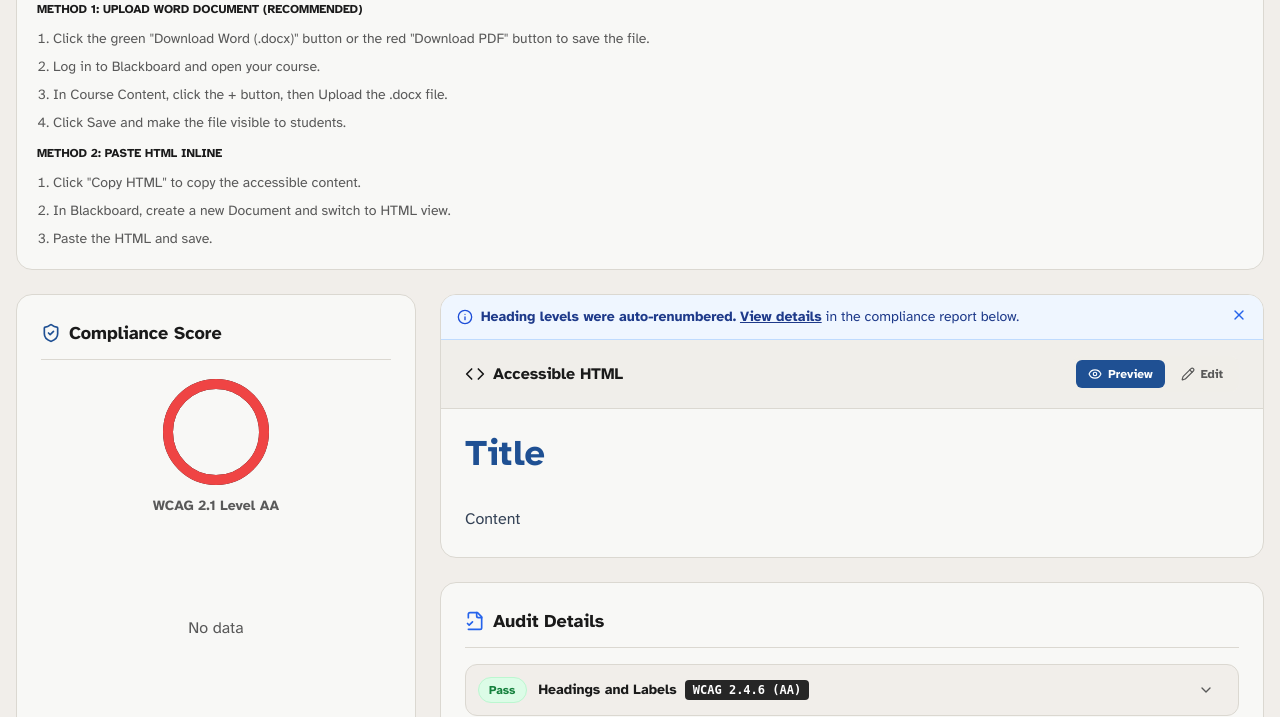
it: PdfConversion results page - heading renumber banner › expands the matching compliance issue when 'View details' is clicked
(page scrolled)
Check: the element with test id "heading-renumber-banner" is shown, box top-left (441, 295), bottom-right (1263, 340)
What coordinates should you click on to do the following:
click the button with test id "button-view-heading-renumber-note"
I would click on:
 (781, 317)
Its box is top-left (740, 307), bottom-right (822, 327).
(page scrolled)
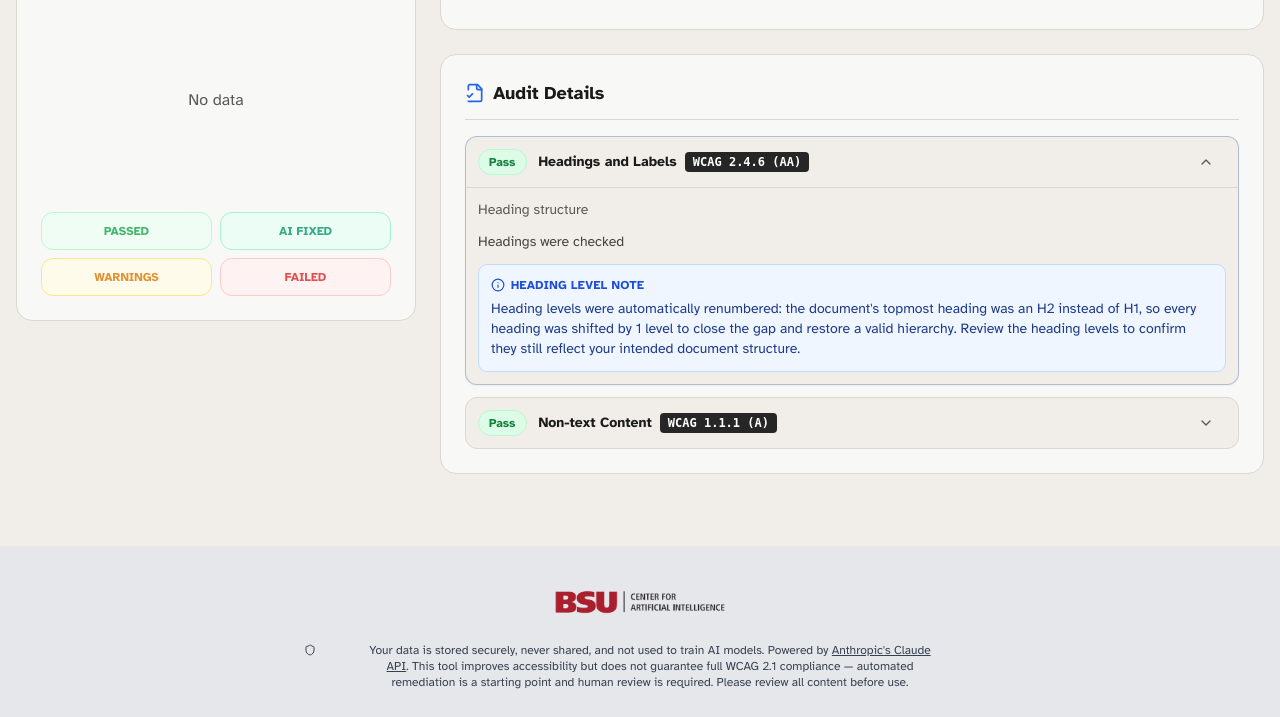
Check: the element with test id "heading-fix-notes-0" is shown, box top-left (478, 264), bottom-right (1226, 372)
